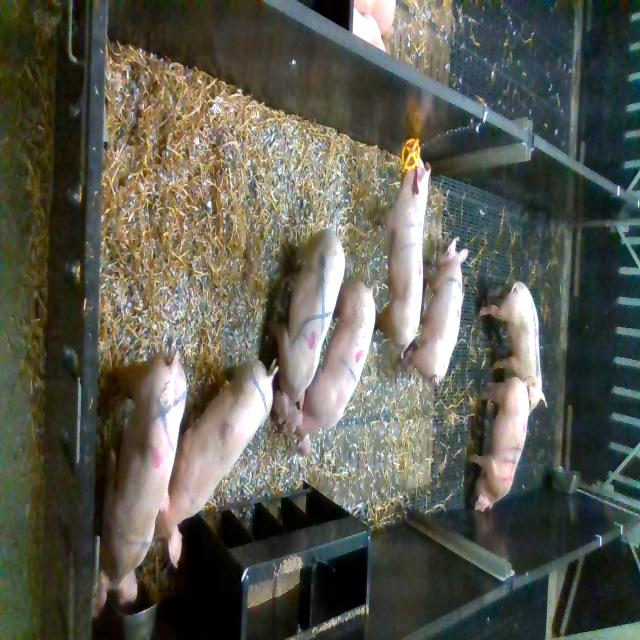pig: (154, 359, 279, 568), (97, 351, 187, 610), (284, 281, 379, 454), (263, 225, 345, 425), (373, 157, 431, 359), (400, 238, 468, 386), (480, 279, 548, 413), (468, 377, 529, 512)
